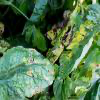Tomato Early blight leaf: (3, 46, 56, 97)
